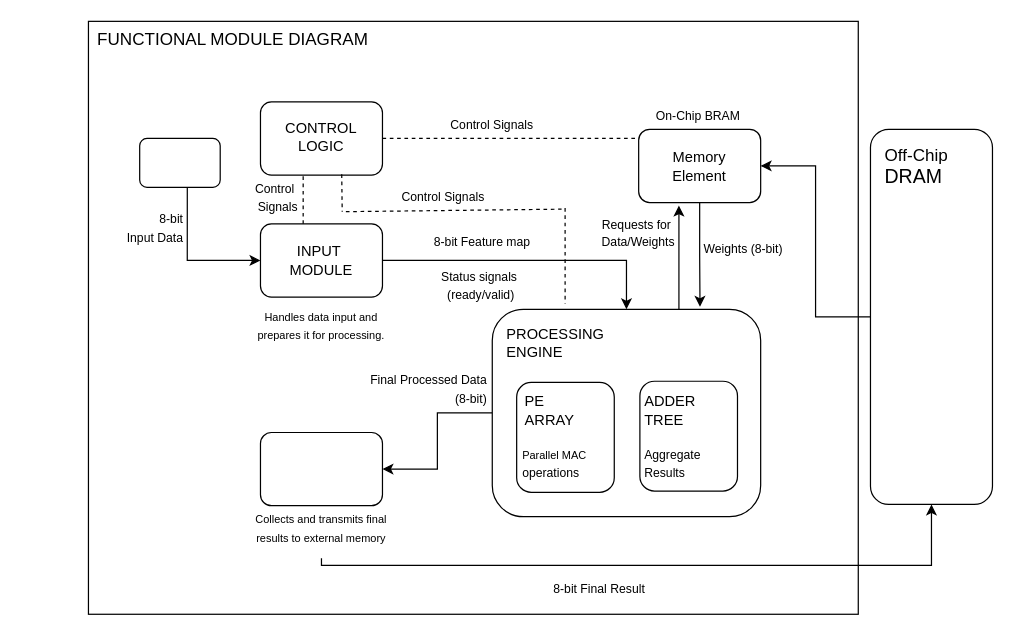
This 1014x641 diagram has some shape labels left out. The shapes that lost their labels are listed below. From the top down, each one's centre as x and y in pixels, then its label:
At (x=179, y=162): "External Input Source".
At (x=320, y=468): "OUTPUT MODULE".
